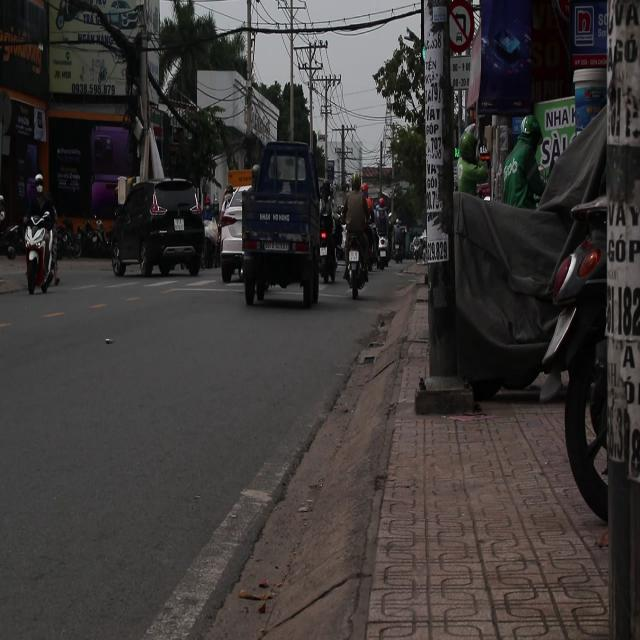car: (104, 168, 210, 289), (217, 188, 244, 283)
motorbike: (11, 180, 70, 314), (344, 194, 376, 311), (376, 212, 398, 281)
truck: (242, 139, 328, 306)
